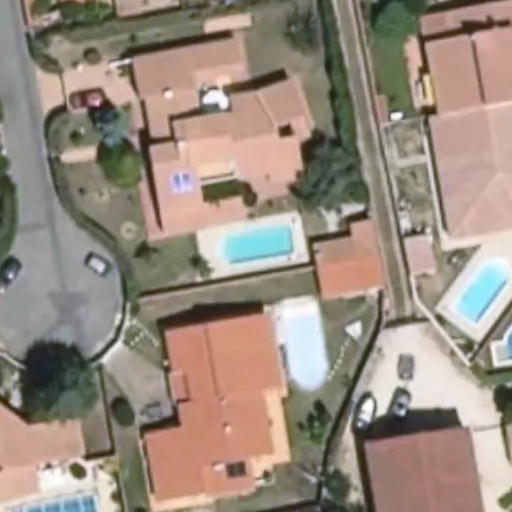pool: (215, 234, 293, 250)
